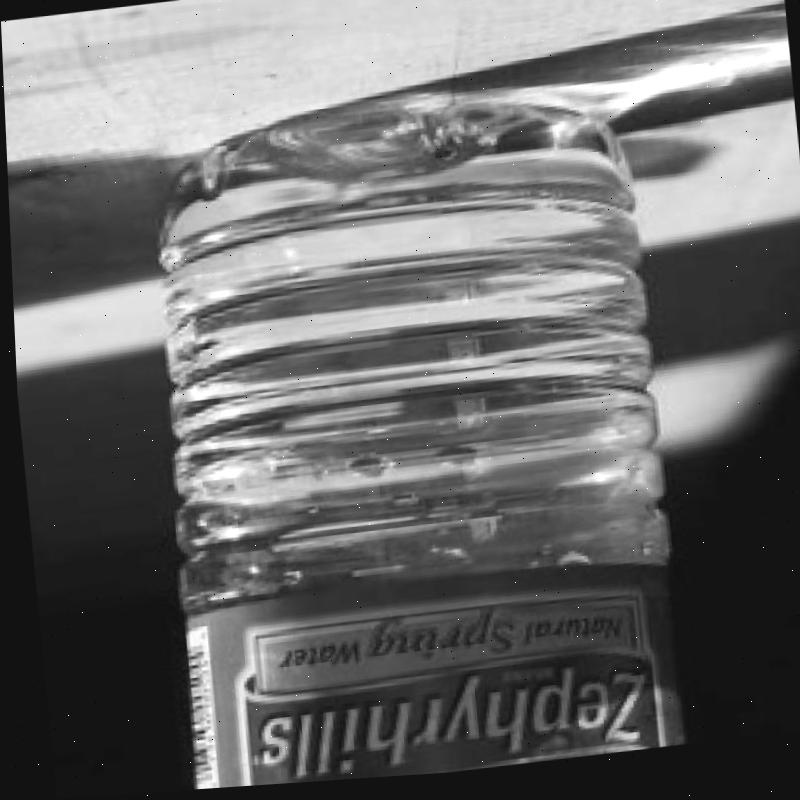botella: (129, 81, 691, 793)
